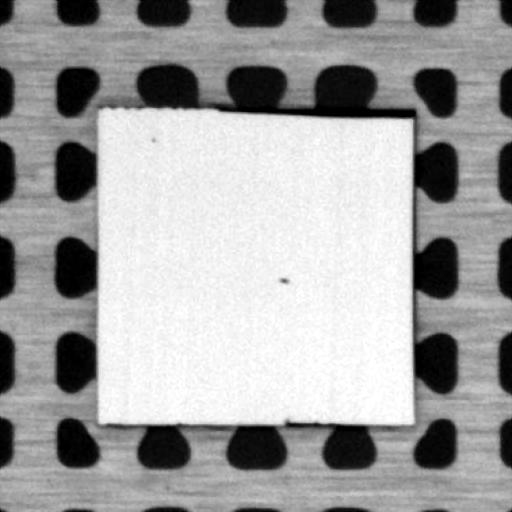DIE_INK: (276, 274, 292, 285), (145, 132, 158, 144)
